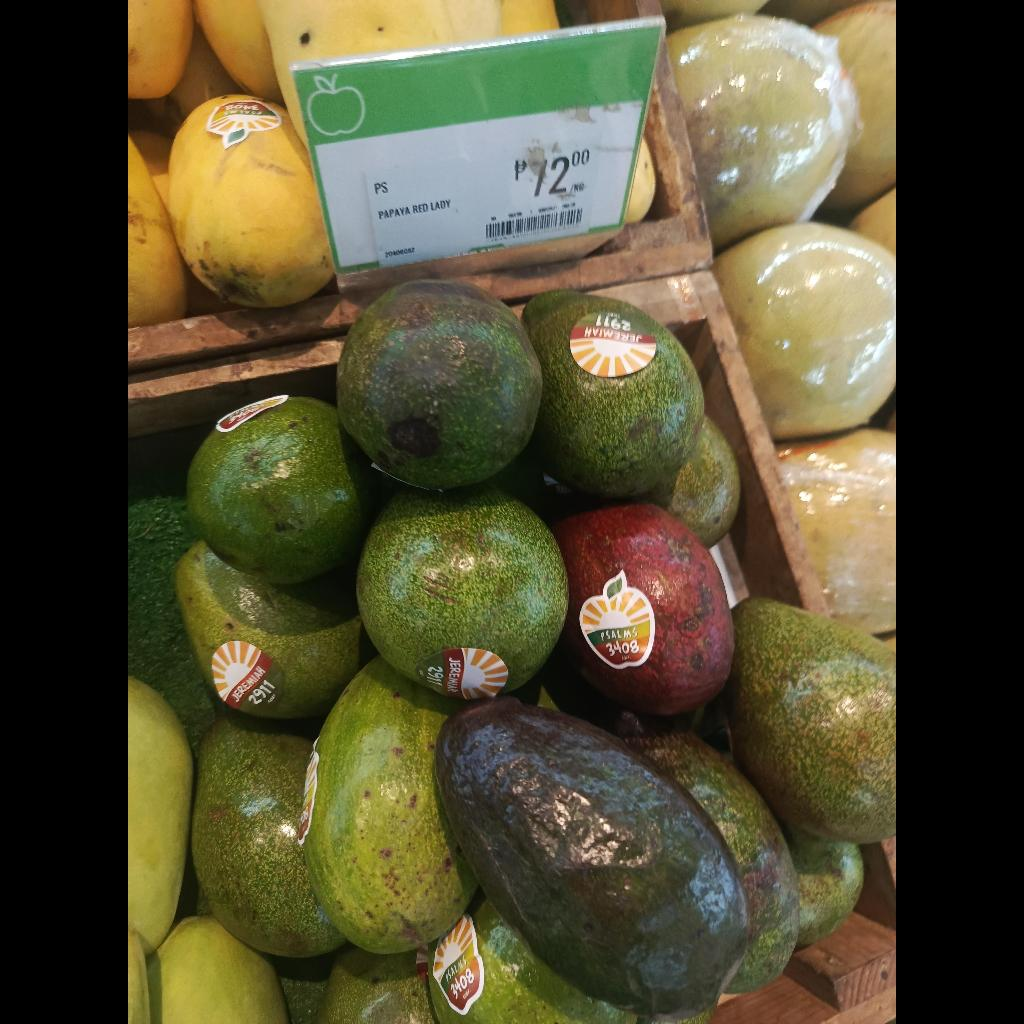anthracnose: (338, 279, 542, 490)
